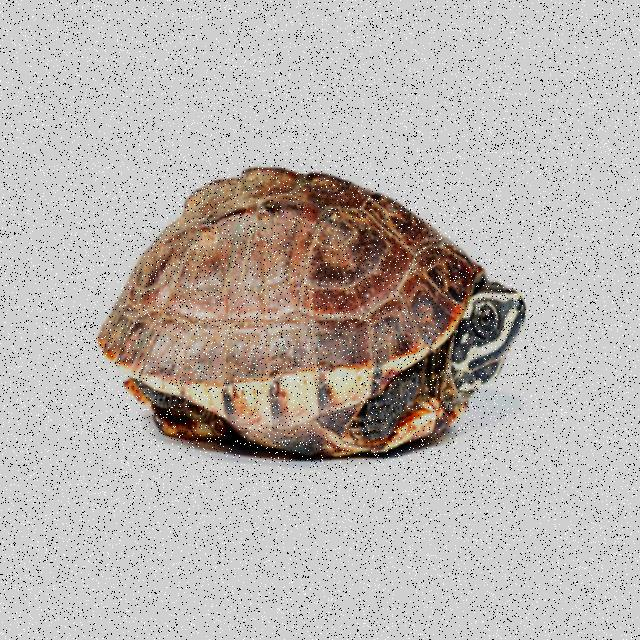tortoise: (102, 165, 534, 463)
